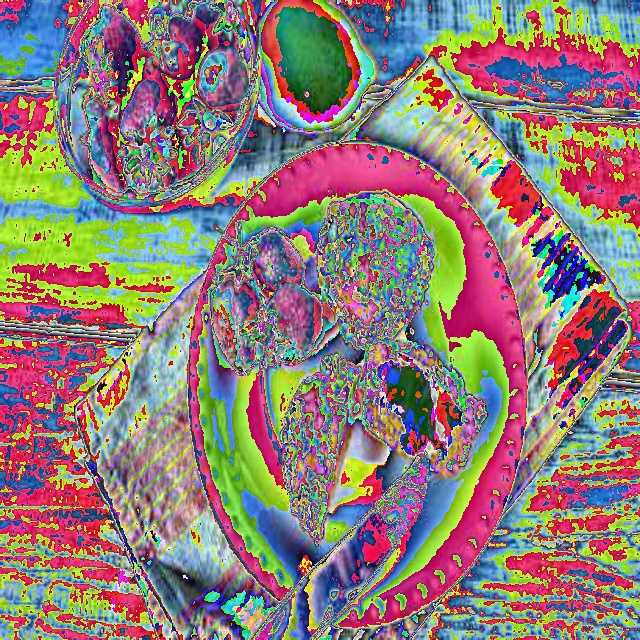background: (211, 188, 488, 546), (122, 0, 379, 134), (79, 0, 252, 195)
